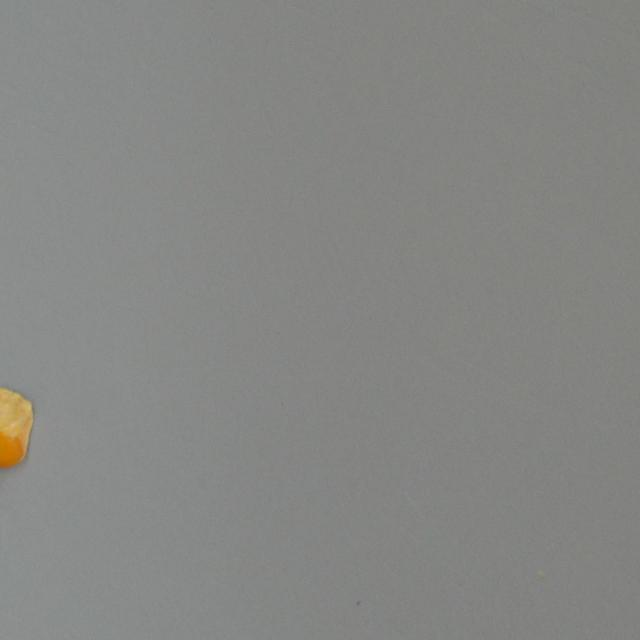entero: (0, 385, 33, 468)
